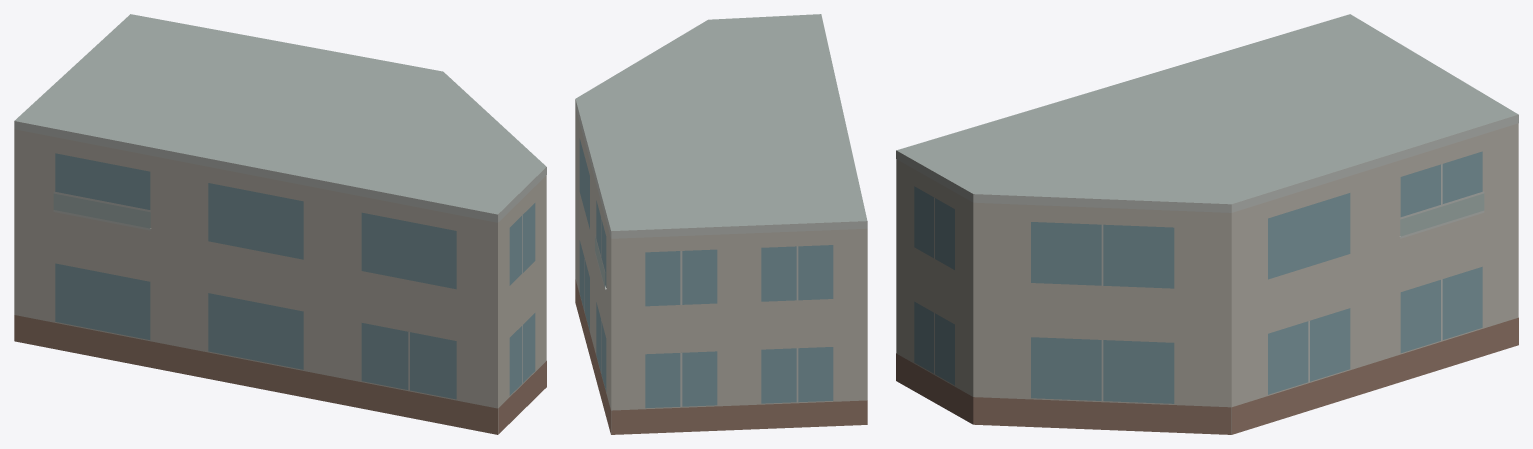
File: survey-upis-33034048.glb
3 renders of one model, left to right at view 1: azimuth 30°, elevation 25°; view 2: azimuth 150°, elevation 25°; view 3: azimuth 270°, elevation 25°, orthographic. The views are drawn at different scales.
Parts seen in each view (by area): view 1: survey-upis-33034048.tmp; view 2: survey-upis-33034048.tmp; view 3: survey-upis-33034048.tmp.
Part boxes in pixels (bbox=[...]): survey-upis-33034048.tmp: bbox=[14, 14, 546, 434]; survey-upis-33034048.tmp: bbox=[575, 14, 867, 434]; survey-upis-33034048.tmp: bbox=[896, 14, 1518, 434].
Size of the model in its own units: 11.51 by 6.5 by 15.91.
